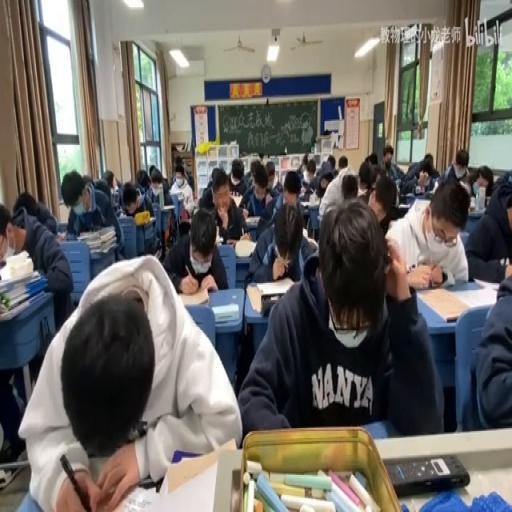calculator: (256, 276, 294, 294), (180, 283, 210, 304), (212, 300, 238, 322), (244, 283, 262, 313), (234, 238, 256, 258), (472, 277, 501, 290), (169, 186, 187, 202), (136, 214, 156, 228), (466, 206, 483, 218), (244, 215, 260, 226), (298, 196, 314, 206), (298, 186, 310, 199), (157, 186, 163, 208), (403, 192, 416, 202), (302, 226, 310, 240), (112, 185, 118, 203), (224, 239, 237, 247), (56, 230, 66, 240), (396, 202, 410, 209), (215, 234, 224, 244), (160, 204, 174, 210), (424, 191, 434, 199)
paper: (21, 252, 241, 509), (235, 199, 437, 438), (0, 195, 71, 334), (384, 178, 470, 287), (466, 263, 512, 430), (64, 169, 126, 263), (162, 208, 226, 294), (462, 174, 512, 280), (241, 162, 278, 231), (304, 158, 336, 226), (145, 165, 174, 237), (366, 170, 396, 238), (398, 151, 438, 193), (441, 148, 472, 188), (226, 159, 248, 202), (378, 144, 402, 182), (0, 212, 19, 260), (11, 189, 39, 219), (476, 165, 494, 196), (340, 172, 358, 202), (282, 170, 300, 200), (196, 179, 214, 209), (210, 165, 226, 189), (101, 168, 117, 189), (136, 169, 150, 192), (250, 158, 262, 182), (122, 194, 136, 210), (422, 154, 433, 170), (174, 168, 184, 185), (366, 150, 378, 164), (299, 154, 309, 170), (81, 174, 93, 186), (134, 186, 142, 204), (150, 175, 161, 188), (326, 154, 335, 169), (338, 155, 347, 169), (174, 155, 182, 169), (149, 168, 156, 180), (308, 168, 314, 180)
person: (384, 452, 470, 496), (261, 292, 283, 314), (138, 476, 162, 490), (446, 314, 456, 322)
